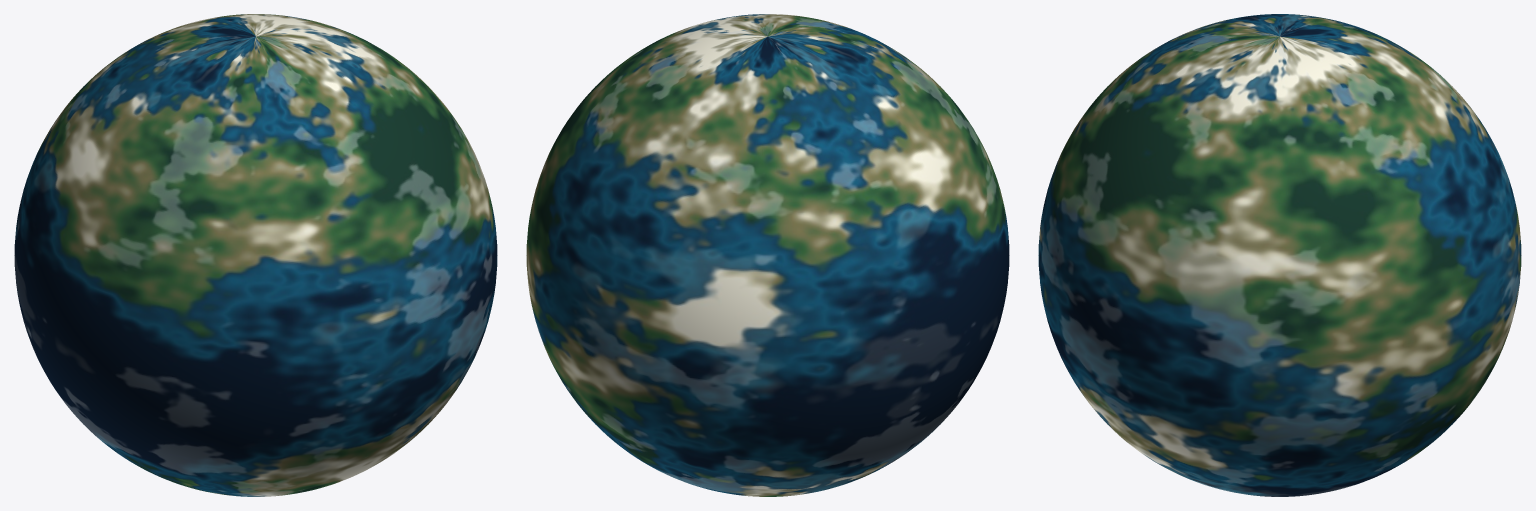
The model's file is terran.glb.
3 views of the same model, side by side, from view 1: azimuth 30°, elevation 25°; view 2: azimuth 150°, elevation 25°; view 3: azimuth 270°, elevation 25° (orthographic).
Visible parts, largest first — view 1: Planet · Terran; view 2: Planet · Terran; view 3: Planet · Terran.
Boxes of the visible parts, x1,y1,x2,y2 form: Planet · Terran: (14, 14, 497, 496); Planet · Terran: (526, 14, 1009, 496); Planet · Terran: (1038, 14, 1521, 496).
Size of the model in its own units: 2 by 2 by 2.
Materials: 1 (1 with a texture image).
